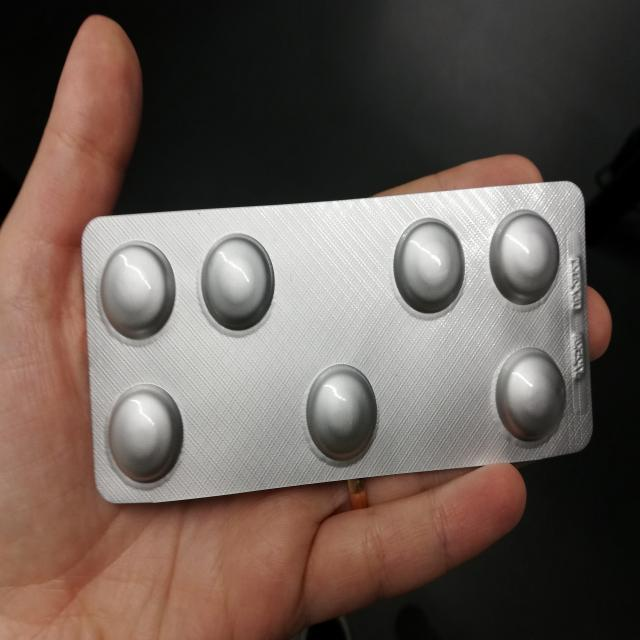Pill: (292, 348, 384, 467), (189, 222, 276, 337), (94, 232, 175, 348), (482, 198, 565, 311), (390, 204, 464, 328), (97, 378, 179, 489), (490, 342, 566, 453)
